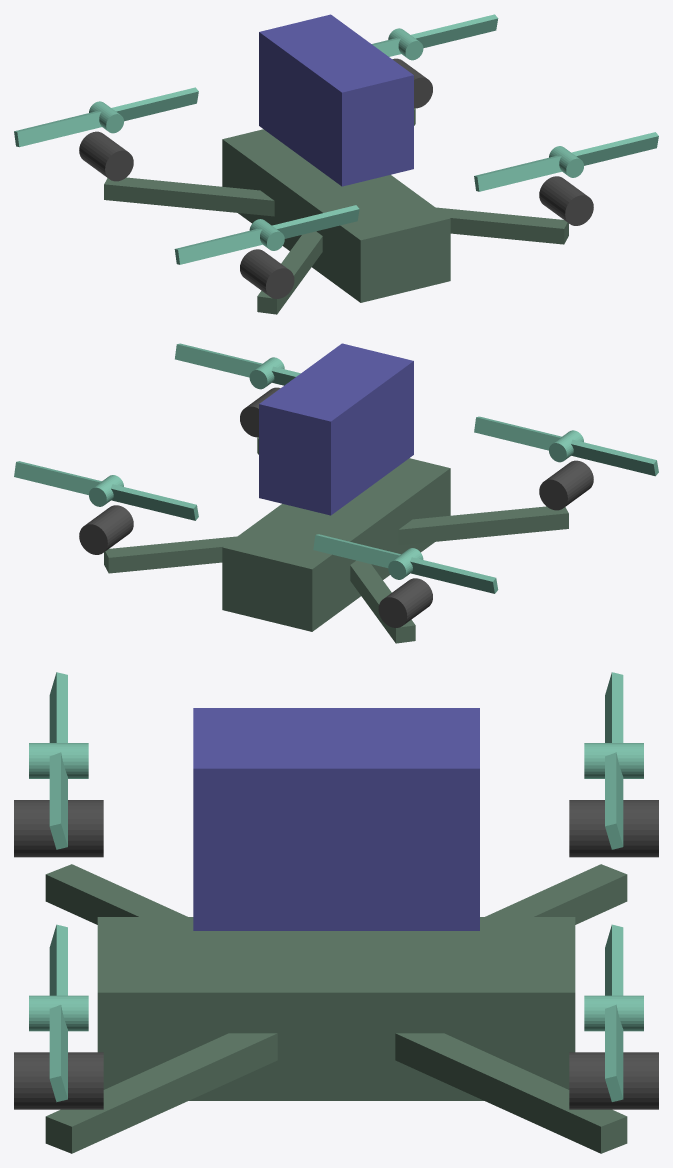
The model's file is Twig XL 3.glb.
The picture shows the model from 3 angles, top to bottom: view 1: azimuth 30°, elevation 25°; view 2: azimuth 150°, elevation 25°; view 3: azimuth 270°, elevation 25°; orthographic projection. The views are drawn at different scales.
Parts seen in each view (by area): view 1: battery, frame_body, arm_3, prop_2, prop_0, prop_3, arm_0, prop_1, arm_2, motor_3, motor_2, motor_0 (+1 smaller); view 2: battery, frame_body, arm_2, prop_1, prop_3, prop_2, arm_1, prop_0, arm_3, motor_2, motor_3, motor_1 (+1 smaller); view 3: frame_body, battery, arm_0, arm_1, prop_1, prop_0, prop_3, prop_2, motor_3, motor_1, motor_2, motor_0 (+2 smaller).
Part boxes in pixels (bbox=[...]): battery: bbox=[259, 14, 413, 186]; frame_body: bbox=[222, 129, 450, 302]; arm_3: bbox=[104, 177, 274, 216]; prop_2: bbox=[174, 205, 359, 264]; prop_0: bbox=[474, 132, 658, 191]; prop_3: bbox=[14, 87, 198, 147]; arm_0: bbox=[435, 207, 568, 244]; prop_1: bbox=[372, 14, 498, 60]; arm_2: bbox=[257, 231, 322, 314]; motor_3: bbox=[79, 131, 133, 181]; motor_2: bbox=[240, 249, 294, 298]; motor_0: bbox=[539, 176, 593, 225]; battery: bbox=[259, 343, 413, 515]; frame_body: bbox=[222, 458, 450, 631]; arm_2: bbox=[398, 506, 568, 545]; prop_1: bbox=[14, 461, 198, 520]; prop_3: bbox=[313, 534, 498, 593]; prop_2: bbox=[474, 416, 658, 476]; arm_1: bbox=[104, 536, 236, 573]; prop_0: bbox=[175, 343, 300, 389]; arm_3: bbox=[350, 560, 415, 643]; motor_2: bbox=[539, 460, 593, 510]; motor_3: bbox=[378, 578, 432, 627]; motor_1: bbox=[79, 505, 133, 554]; frame_body: bbox=[97, 917, 575, 1100]; battery: bbox=[193, 708, 479, 930]; arm_0: bbox=[45, 1033, 277, 1153]; arm_1: bbox=[395, 1033, 627, 1153]; prop_1: bbox=[584, 924, 643, 1101]; prop_0: bbox=[29, 924, 88, 1102]; prop_3: bbox=[584, 672, 643, 849]; prop_2: bbox=[29, 672, 88, 849]; motor_3: bbox=[569, 800, 658, 857]; motor_1: bbox=[569, 1052, 658, 1109]; motor_2: bbox=[14, 800, 103, 857]; motor_0: bbox=[14, 1052, 103, 1109].
Bounding box in the file's own units: 0.16 × 0.06 × 0.108.
